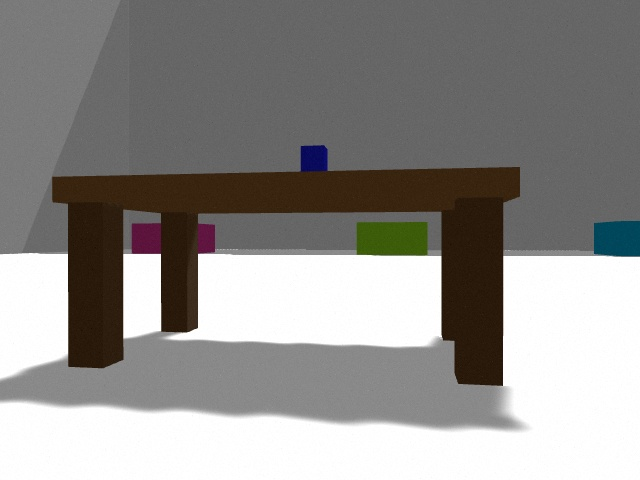blue_cube: (301, 145, 328, 171)
blue_drop_zone: (594, 221, 640, 256)
green_drop_zone: (357, 222, 428, 255)
red_drop_zone: (132, 223, 161, 254), (198, 224, 215, 253)
